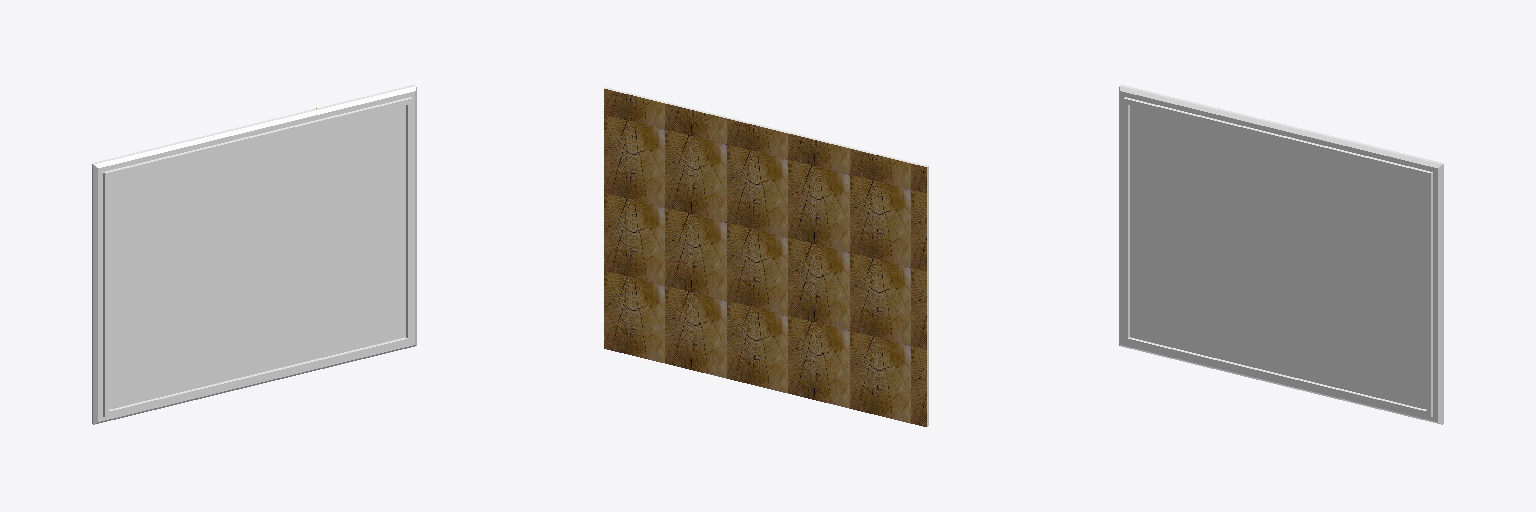
3 renders of one model, left to right at view 1: azimuth 30°, elevation 25°; view 2: azimuth 150°, elevation 25°; view 3: azimuth 330°, elevation 25°, orthographic.
Parts seen in each view (by area): view 1: Object.1; view 2: Object.1; view 3: Object.1.
Part boxes in pixels (x1,y1,x2,y2): Object.1: (92,85,416,424); Object.1: (604,87,928,426); Object.1: (1119,85,1443,424).
Size of the model in its own units: 15850 by 12192 by 457.
3 materials, 1 textured.